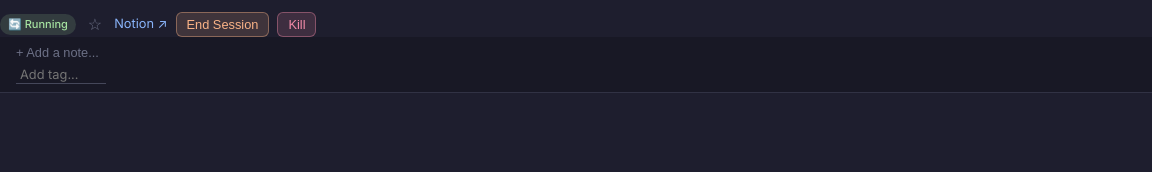
Test: SessionControls — Note editor › clicking note placeholder shows input
Click the button "+ Add a note...": (57, 52) [16, 45, 99, 60]
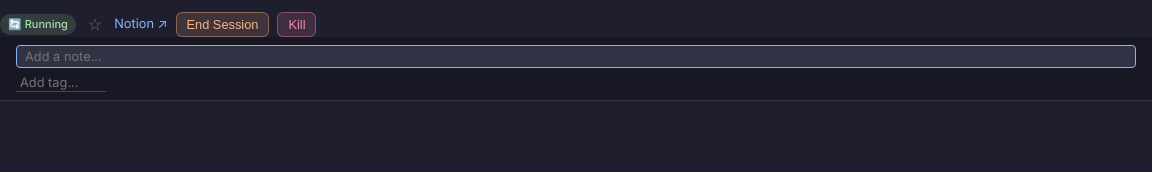
Check: the field with placeholder "Add a note..." is shown, box [16, 45, 1136, 68]
